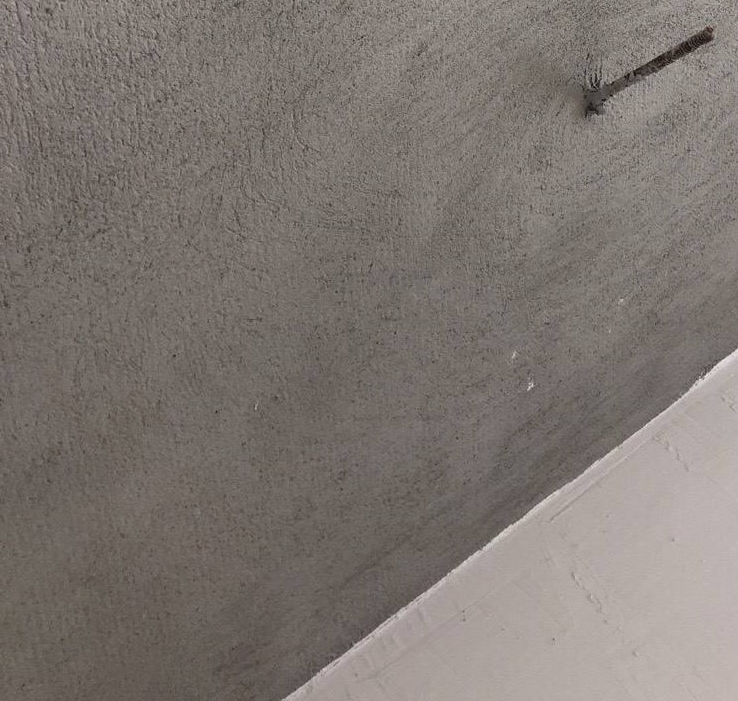Exposed reinforcement: (585, 23, 715, 108)
